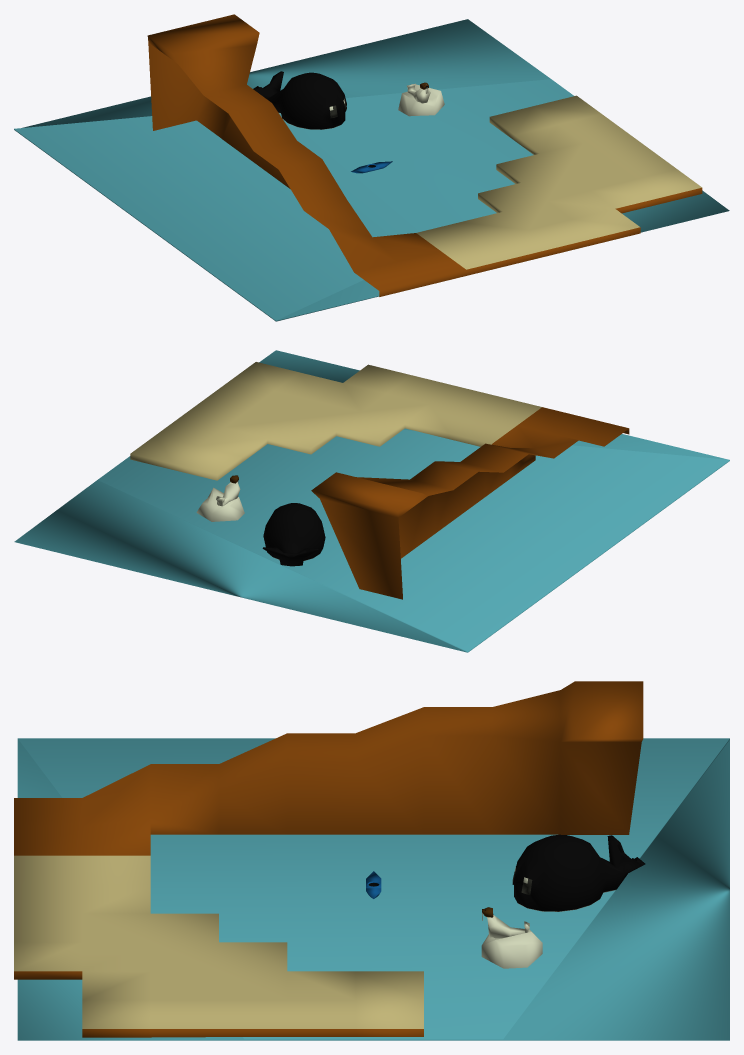
The model's file is Kayak.dae.
The picture shows the model from 3 angles, top to bottom: view 1: azimuth 30°, elevation 25°; view 2: azimuth 150°, elevation 25°; view 3: azimuth 270°, elevation 25°; orthographic projection. The views are drawn at different scales.
Parts seen in each view (by area): view 1: Water-0, land-0, Whale-0, Rock-0; view 2: Water-0, land-0, Whale-0, Rock-0; view 3: land-0, Water-0, Whale-0, Rock-0, WalrusBody-0.
Boxes of the visible parts, left/top/right/bottom form: Water-0: left=14, top=19, right=729, bottom=321; land-0: left=147, top=14, right=702, bottom=296; Whale-0: left=253, top=71, right=346, bottom=129; Rock-0: left=398, top=84, right=444, bottom=116; Water-0: left=14, top=350, right=729, bottom=652; land-0: left=130, top=362, right=629, bottom=599; Whale-0: left=262, top=503, right=325, bottom=566; Rock-0: left=196, top=487, right=244, bottom=521; land-0: left=14, top=681, right=643, bottom=1037; Water-0: left=17, top=738, right=729, bottom=1040; Whale-0: left=512, top=834, right=645, bottom=911; Rock-0: left=481, top=929, right=542, bottom=968; WalrusBody-0: left=487, top=915, right=529, bottom=938.
Bounding box in the file's own units: 20.49 × 4.82 × 20.59.
